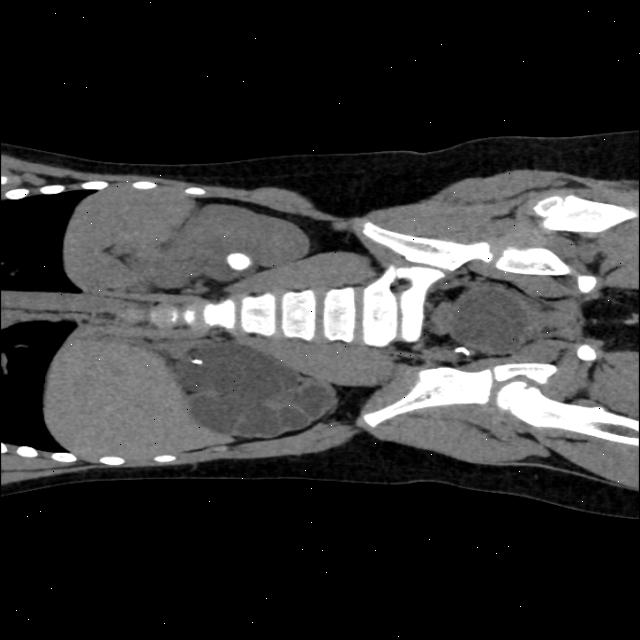kidneystone: (227, 252, 251, 270), (190, 359, 202, 365)
